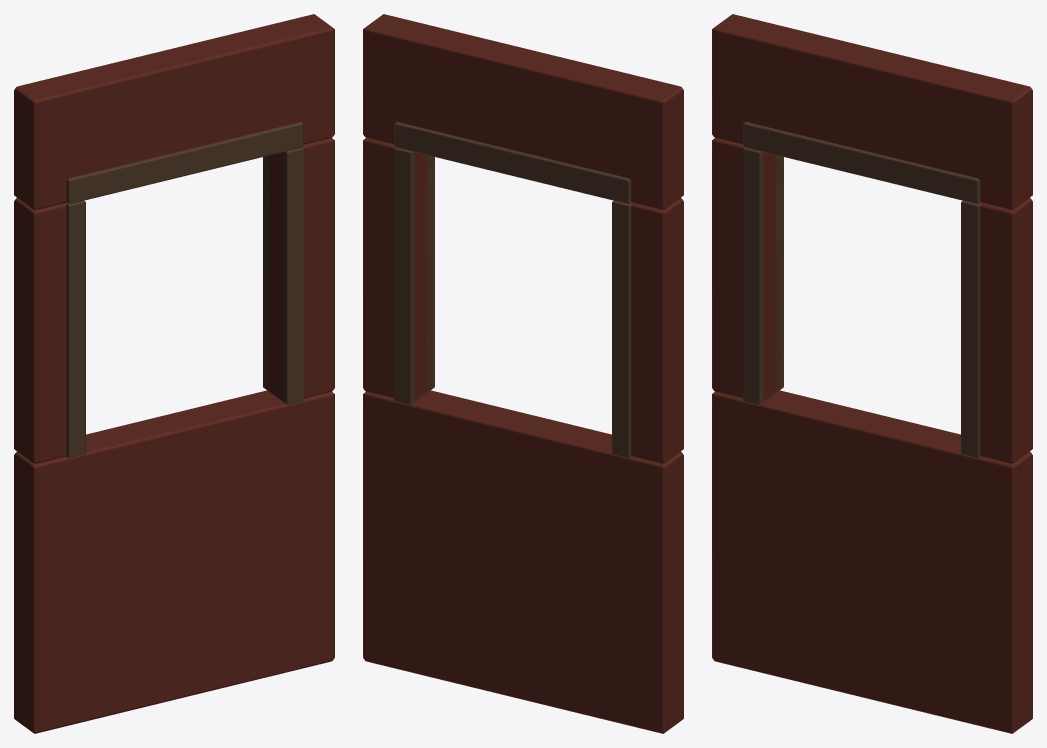
The model's file is railcar-window-frame.c36053b4.glb.
3 views of the same model, side by side, from view 1: azimuth 30°, elevation 25°; view 2: azimuth 150°, elevation 25°; view 3: azimuth 330°, elevation 25° (orthographic).
Parts seen in each view (by area): view 1: body; view 2: body; view 3: body.
Boxes of the visible parts, left/top/right/bottom form: body: left=14, top=14, right=334, bottom=733; body: left=363, top=14, right=683, bottom=733; body: left=712, top=14, right=1032, bottom=733.
Size of the model in its own units: 1 by 2 by 0.14.
